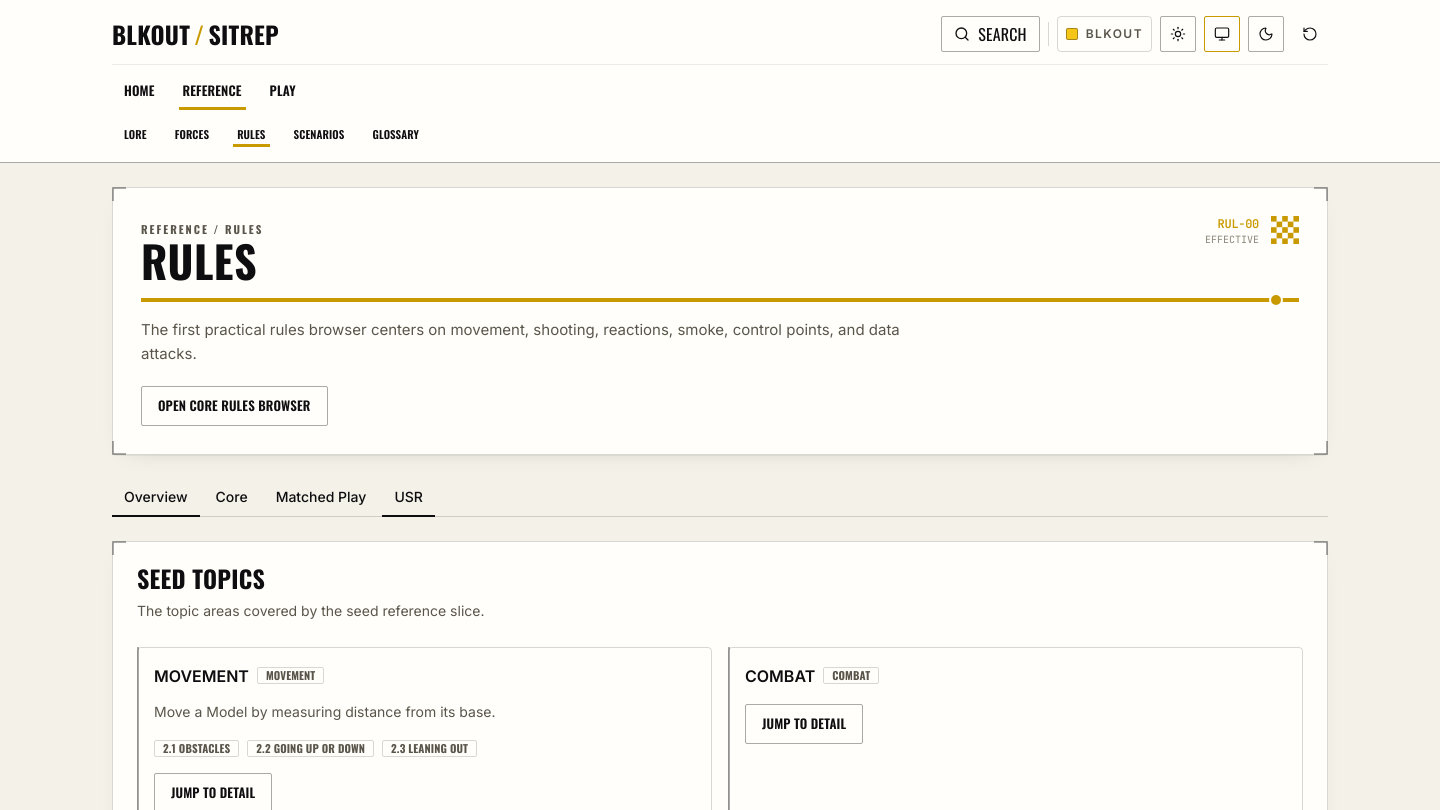
Test: App smoke test › surfaces special rules in the rules module and search
Click the button "Search" at coordinates (990, 34), box [941,16,1040,52]
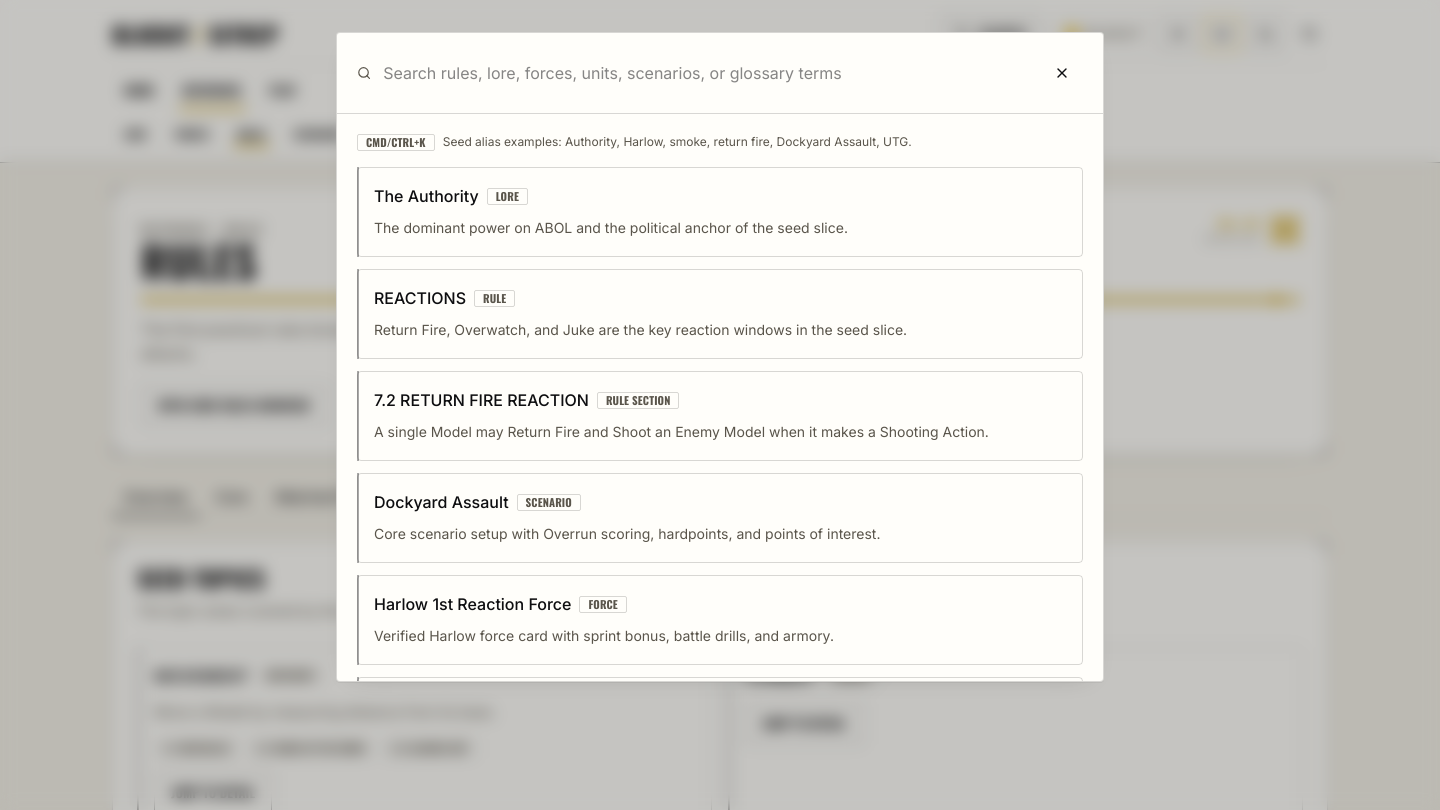
Type "smoke grenade" into the field with placeholder "Search rules, lore, forces, units, scenarios, or glossary terms" at coordinates (706, 73), box [383,61,1029,85]
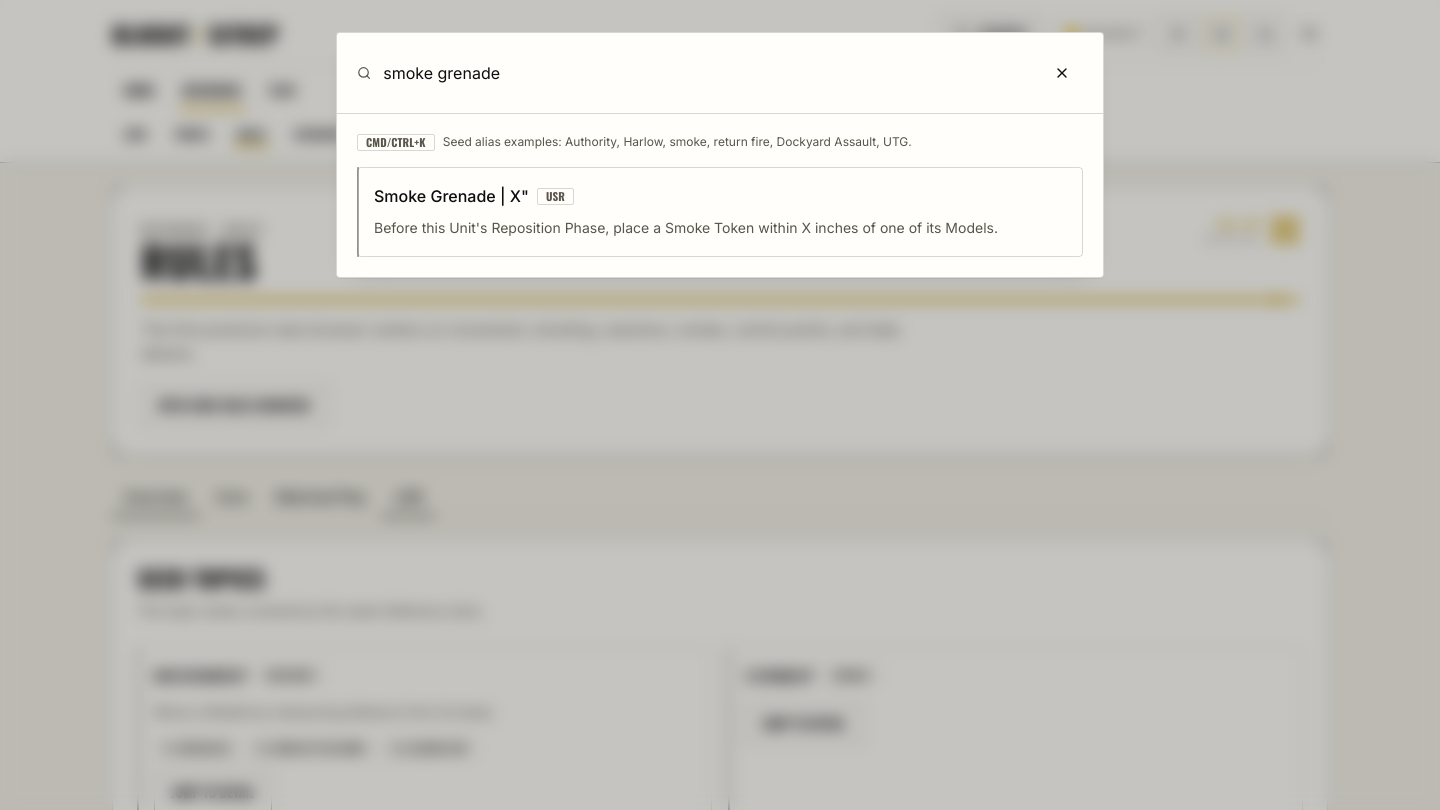
expect the text "USR" is shown: met, box [537,188,574,204]
